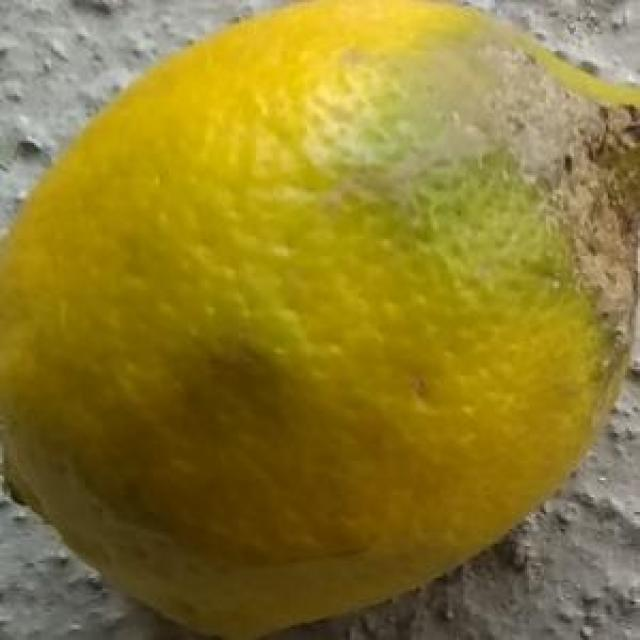lemon: (4, 3, 640, 640)
